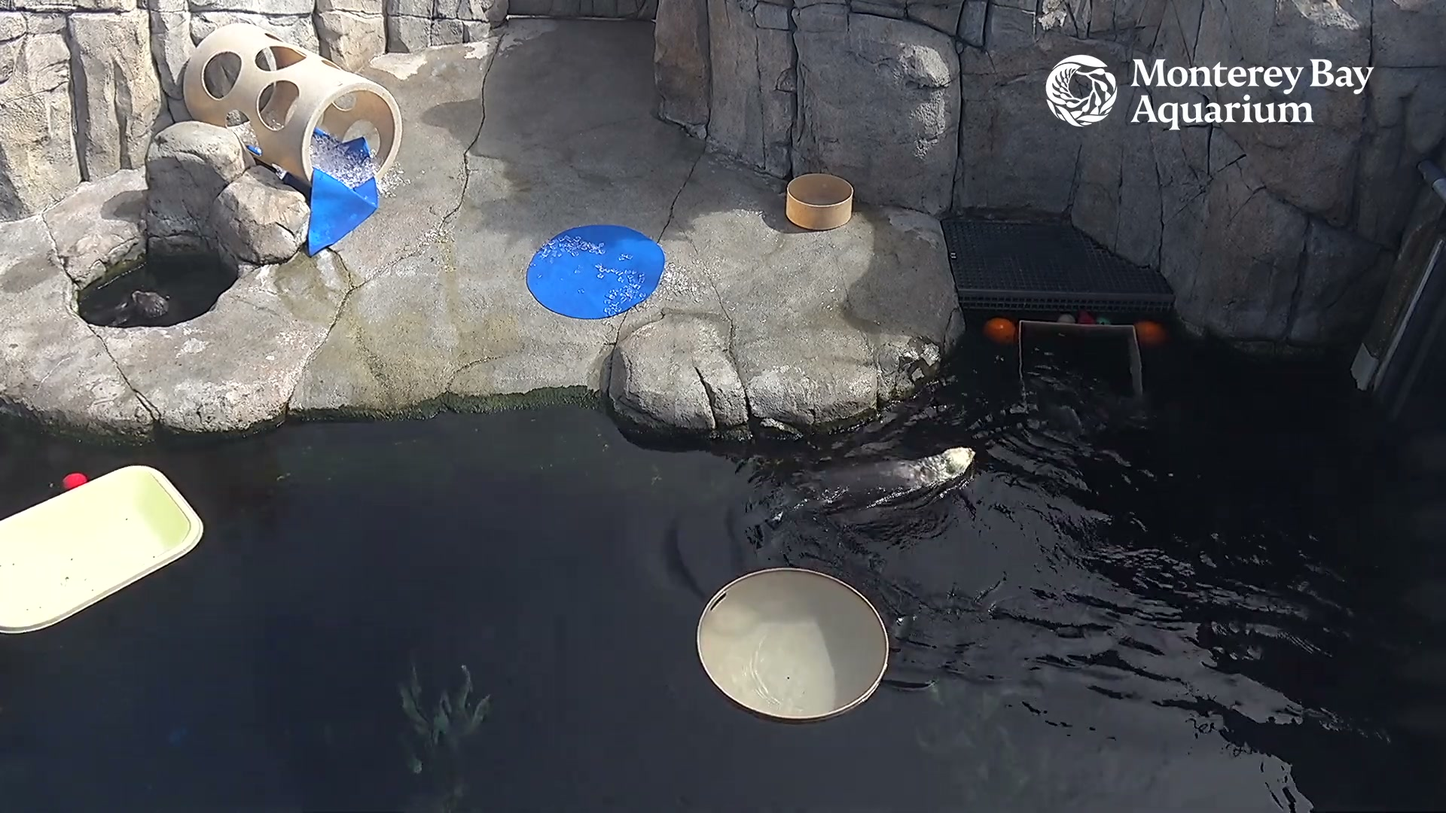Southern Sea Otter: (772, 444, 989, 527)
